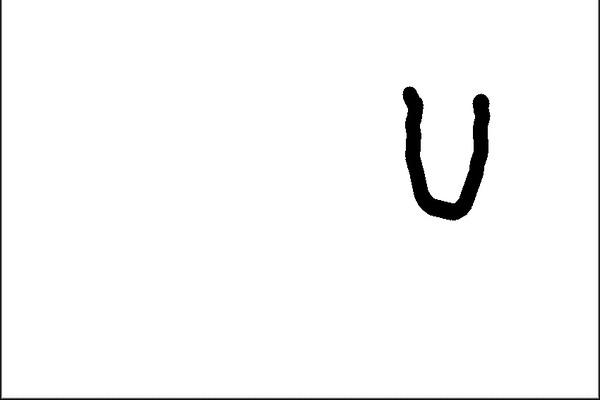U: (394, 74, 509, 222)
